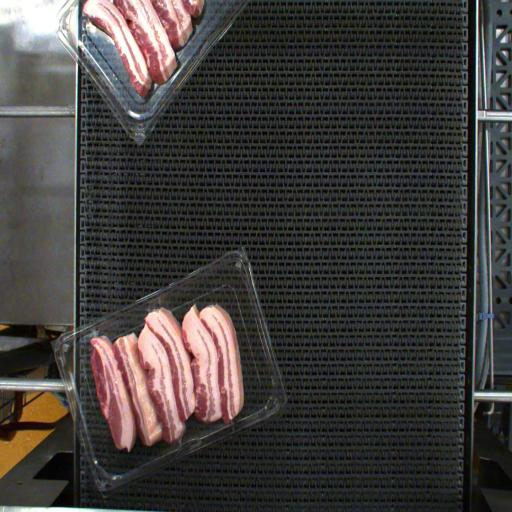packaging-error: (148, 302, 166, 312), (228, 417, 236, 431)
